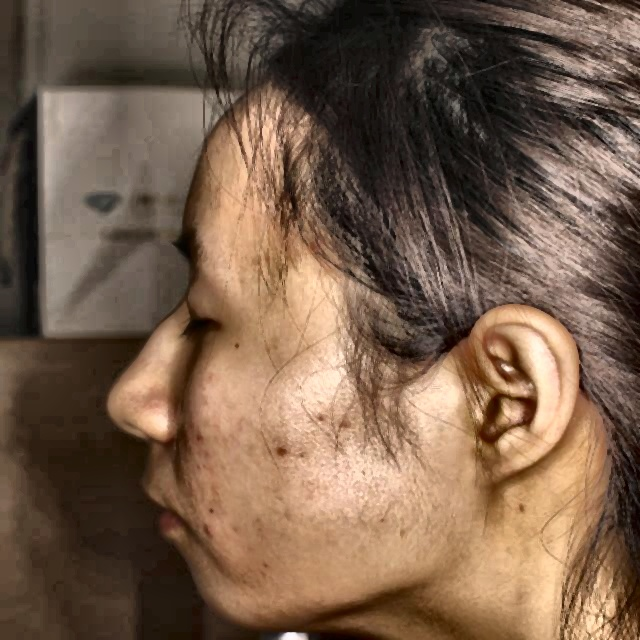pustule: (182, 425, 220, 447), (202, 484, 235, 504), (194, 518, 220, 543)
